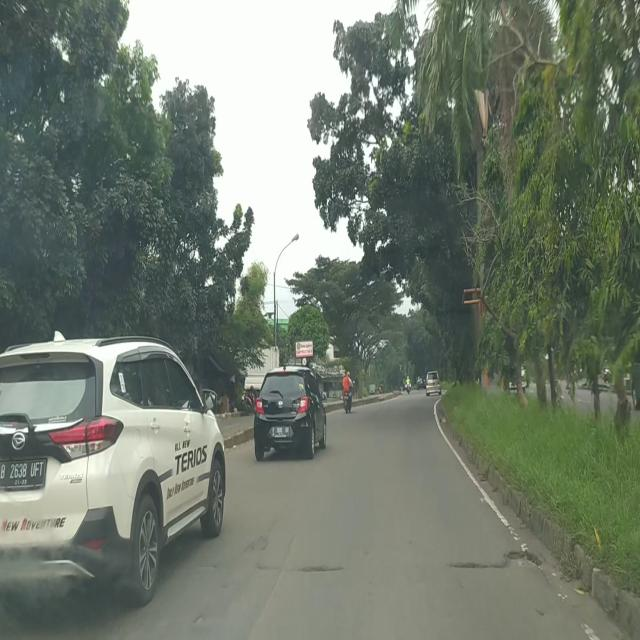Sewer Cover: (263, 549, 531, 572)
